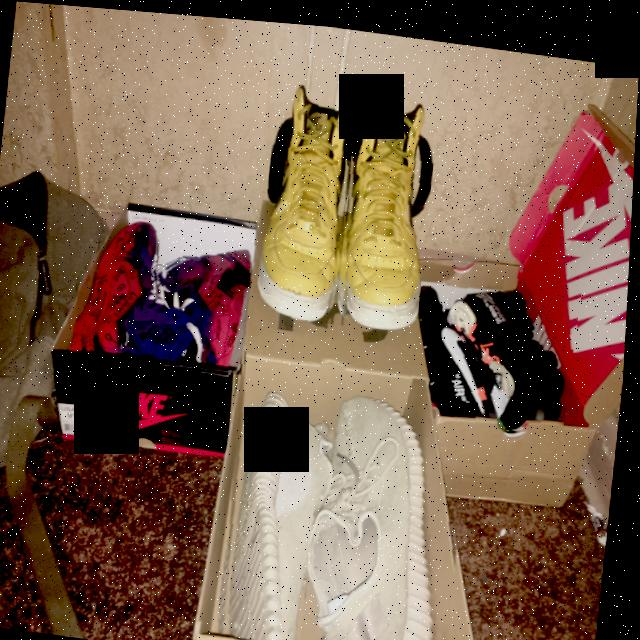shoe: (304, 375, 482, 640), (218, 372, 347, 640), (256, 71, 362, 332), (333, 88, 441, 344), (435, 261, 585, 430), (75, 212, 199, 369), (400, 259, 519, 413), (147, 226, 261, 376)
